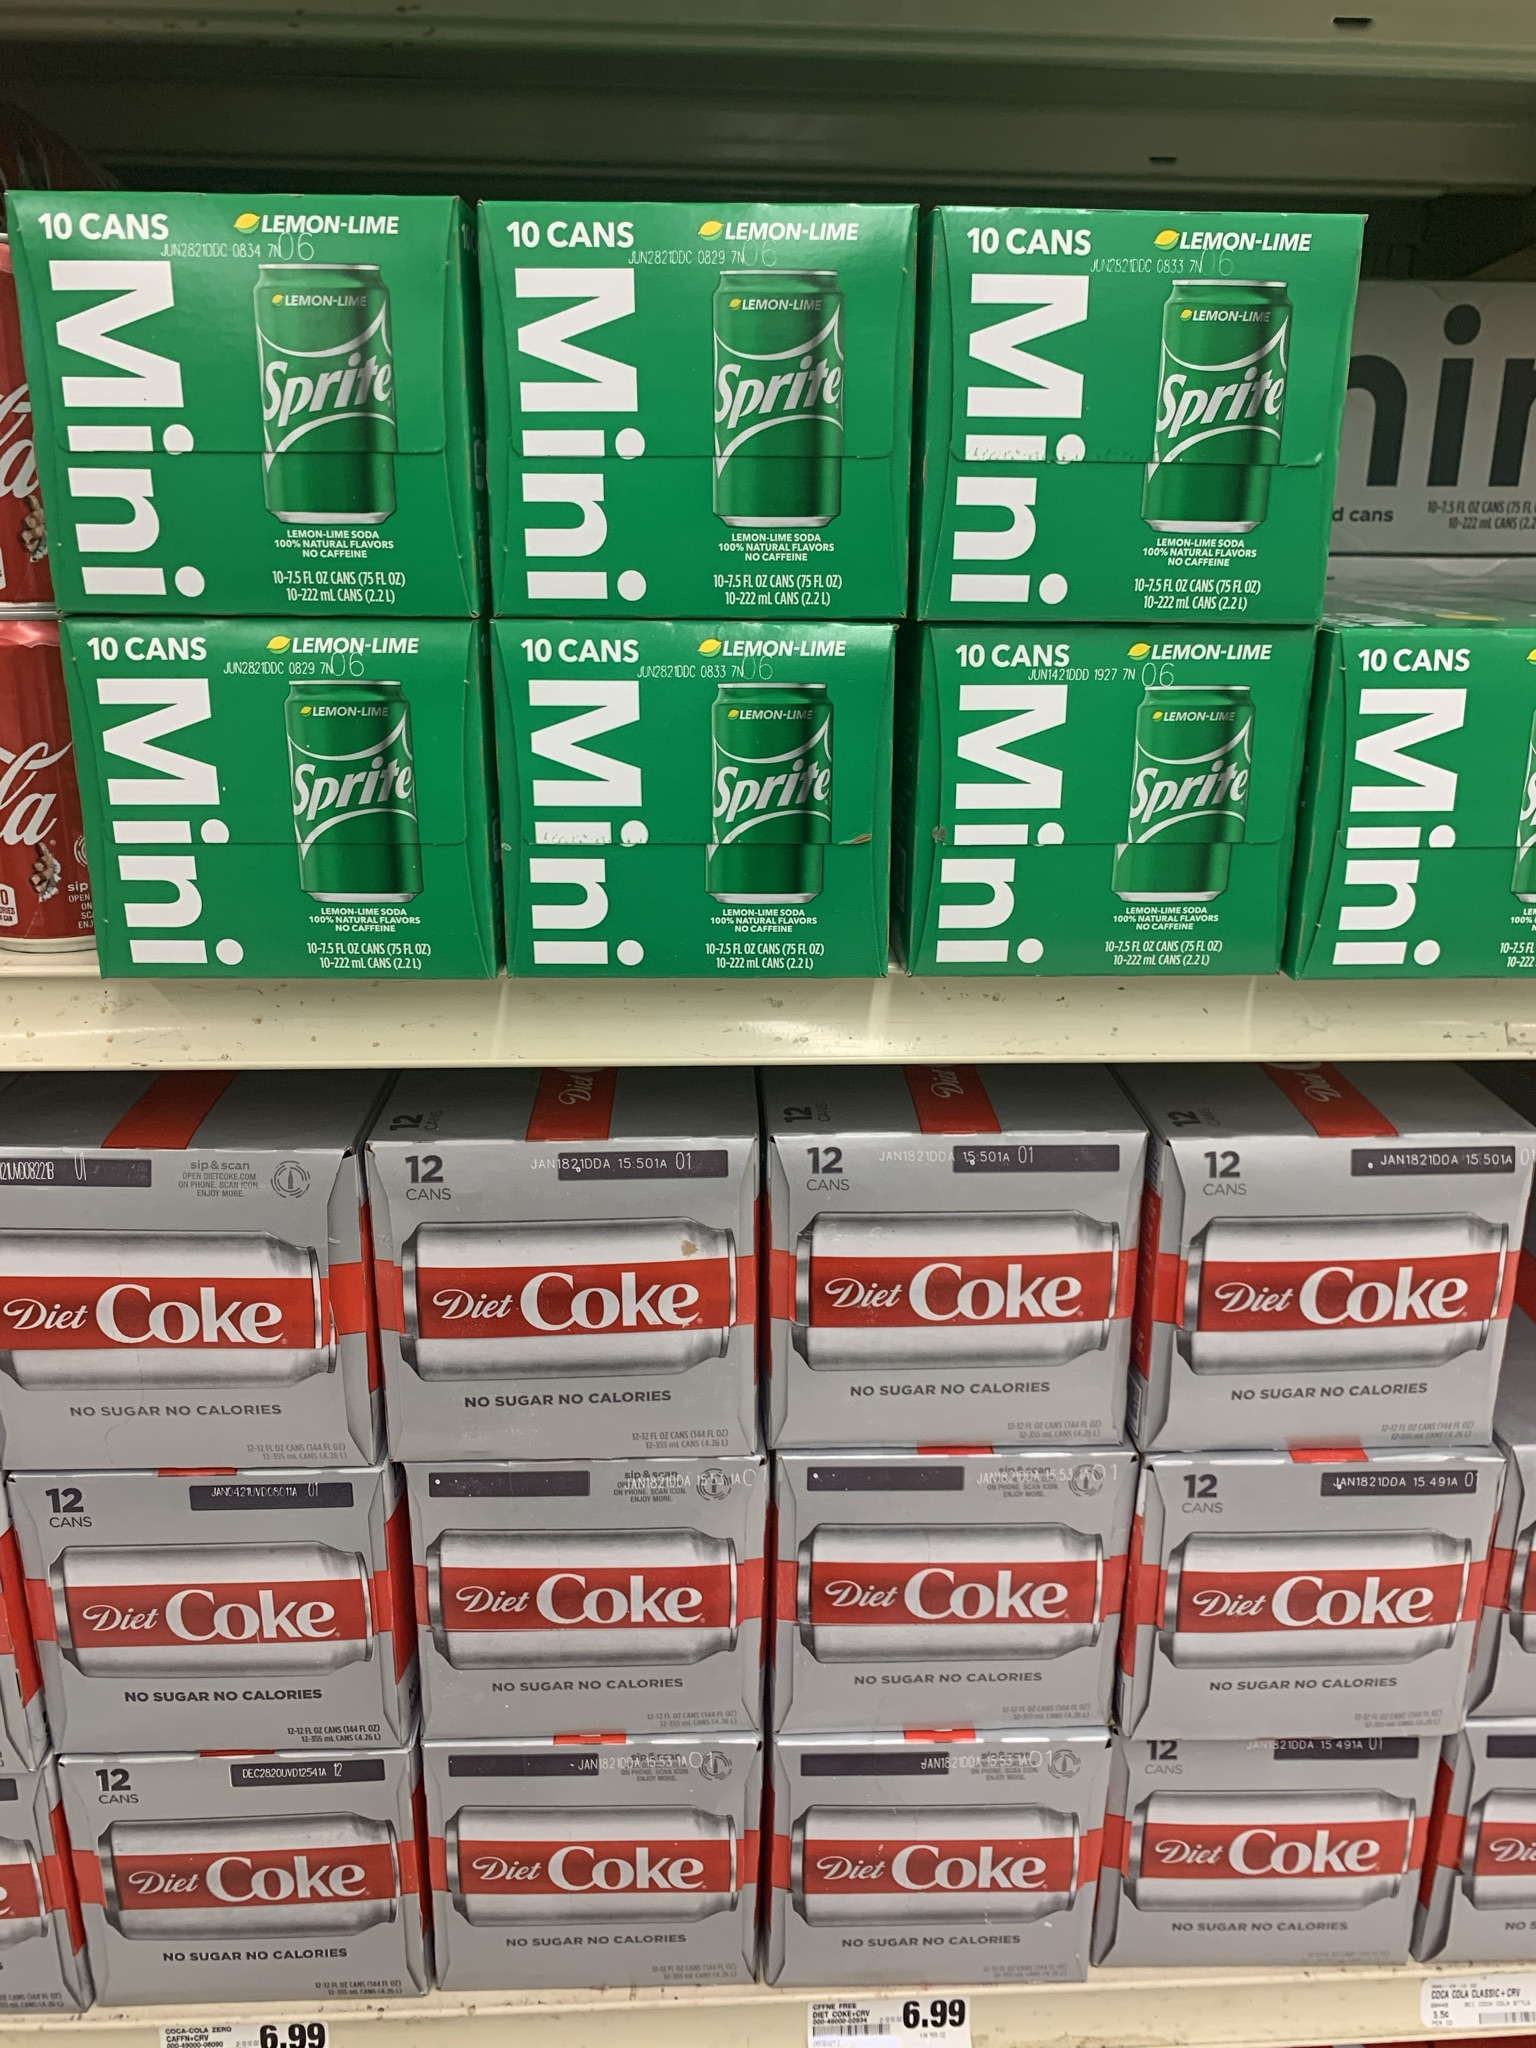box: (58, 189, 460, 618), (490, 219, 912, 606), (936, 214, 1326, 601), (86, 631, 486, 974), (511, 634, 900, 984), (926, 627, 1288, 966), (394, 1150, 765, 1443), (2, 1151, 358, 1447), (395, 1476, 766, 1743), (795, 1153, 1139, 1435), (786, 1463, 1121, 1737), (50, 1480, 373, 1755), (440, 1746, 778, 1988), (53, 1761, 405, 1988), (1158, 1150, 1484, 1395), (1152, 1461, 1460, 1717), (784, 1743, 1105, 1975), (1126, 1742, 1433, 1959)
